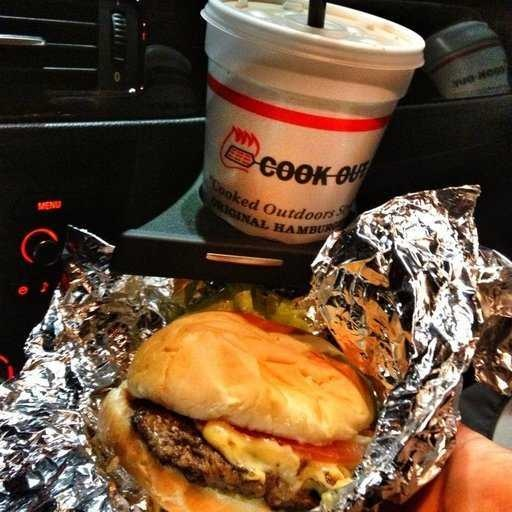hamburger: (103, 306, 393, 512)
